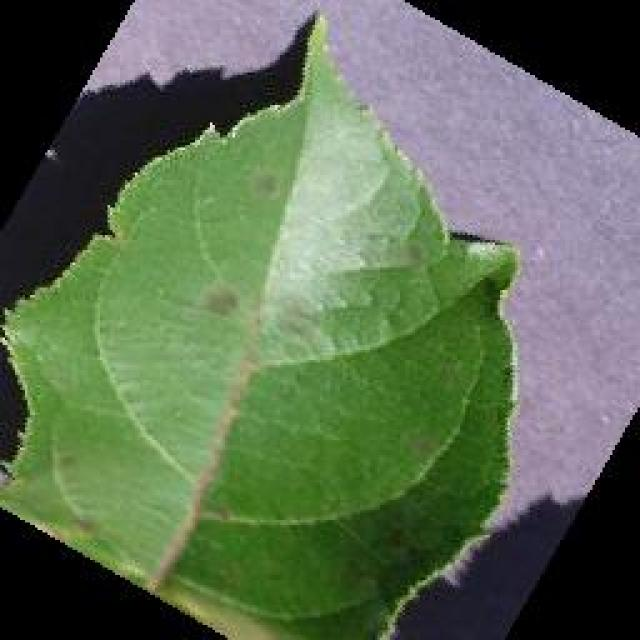apple scab disease: (0, 7, 522, 637)
